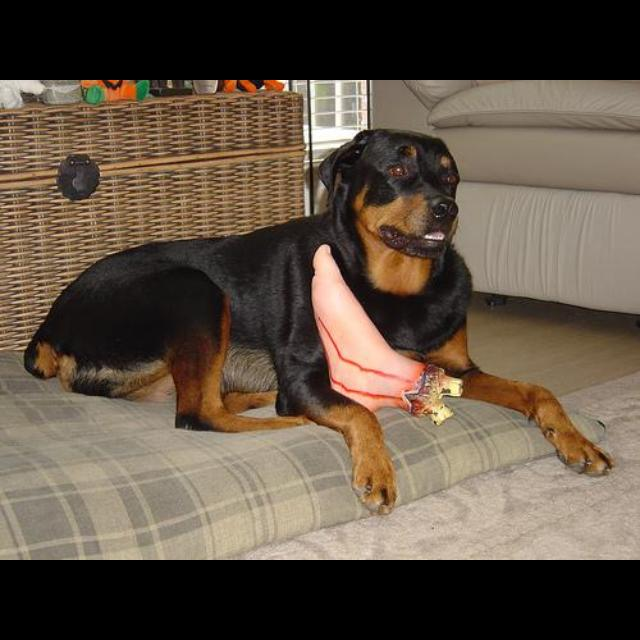rottweiler: (23, 127, 615, 517)
